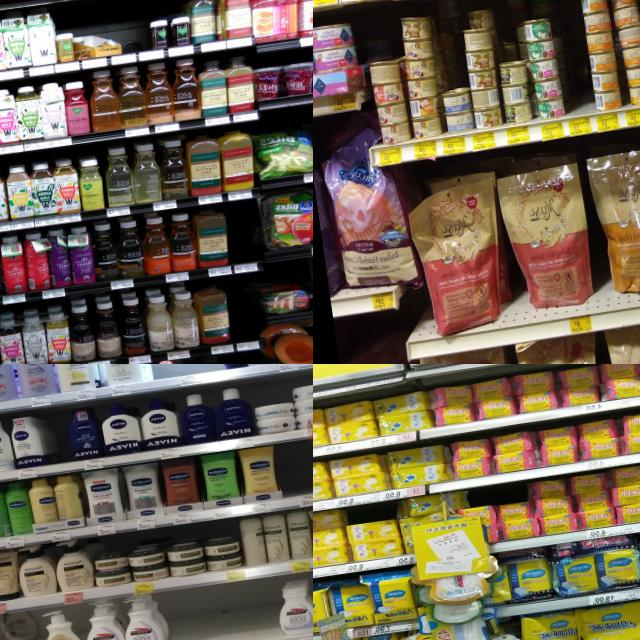100- O.O.S: (165, 577, 280, 640), (550, 0, 596, 136), (278, 443, 313, 510), (226, 206, 255, 274), (228, 286, 258, 351), (147, 364, 219, 390), (124, 13, 152, 62)
